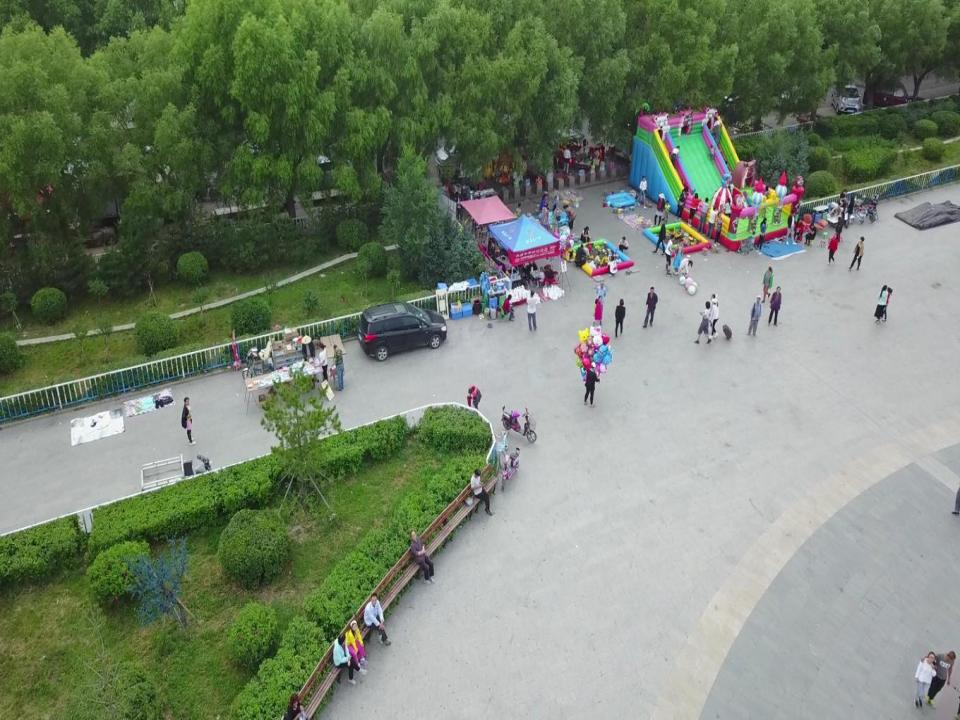car: (358, 301, 447, 360), (858, 74, 912, 111), (831, 74, 864, 115)
